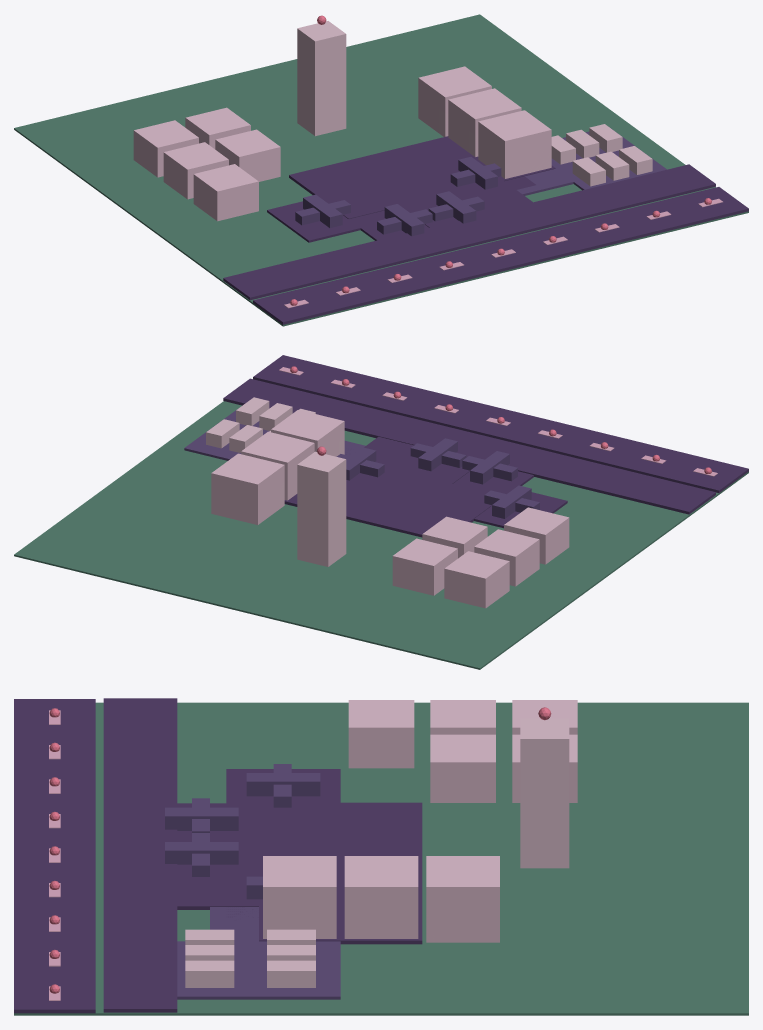
The model's file is stage_21.glb.
The picture shows the model from 3 angles, top to bottom: view 1: azimuth 30°, elevation 25°; view 2: azimuth 150°, elevation 25°; view 3: azimuth 270°, elevation 25°; orthographic projection. The views are drawn at different scales.
Parts seen in each view (by area): view 1: geometry_0; view 2: geometry_0; view 3: geometry_0.
Part boxes in pixels (x1=…): geometry_0: x1=14, y1=14, x2=748, y2=326; geometry_0: x1=14, y1=355, x2=748, y2=669; geometry_0: x1=14, y1=698, x2=748, y2=1015.
Size of the model in its own units: 9 by 2.06 by 9.
